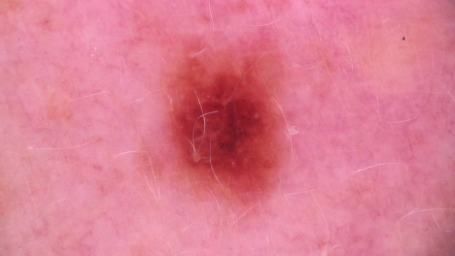melanoma: (173, 70, 276, 203)
